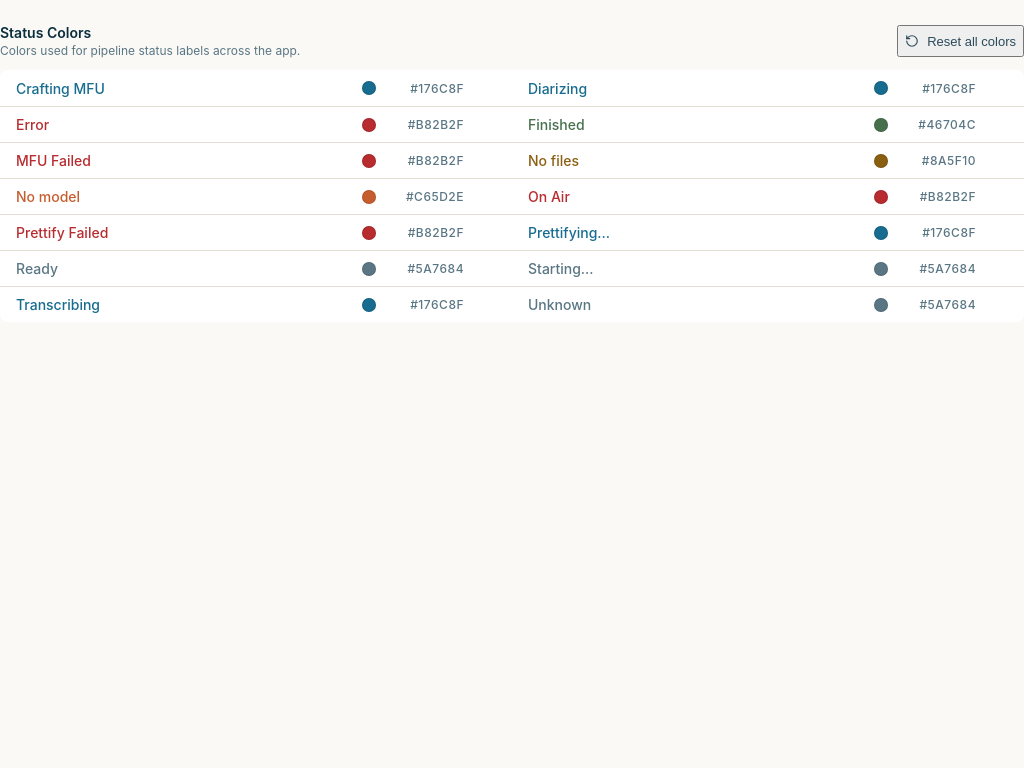
Test: StatusColorsSection — picker popover › keeps the visual color input and hex field synchronized
Click the button "Ready #5A7684" at (37, 268), box x1=16 y1=260 x2=464 y2=277
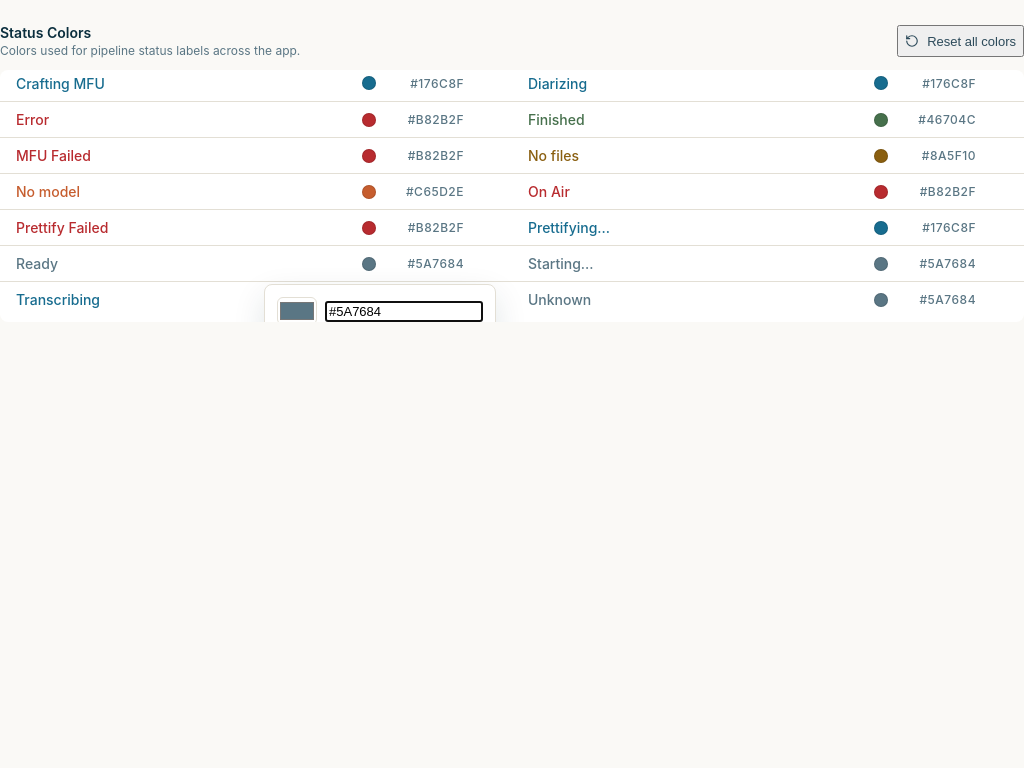
Type "#abcdef" into the colour field named "Visual color picker" at (297, 311), box x1=277 y1=297 x2=317 y2=325
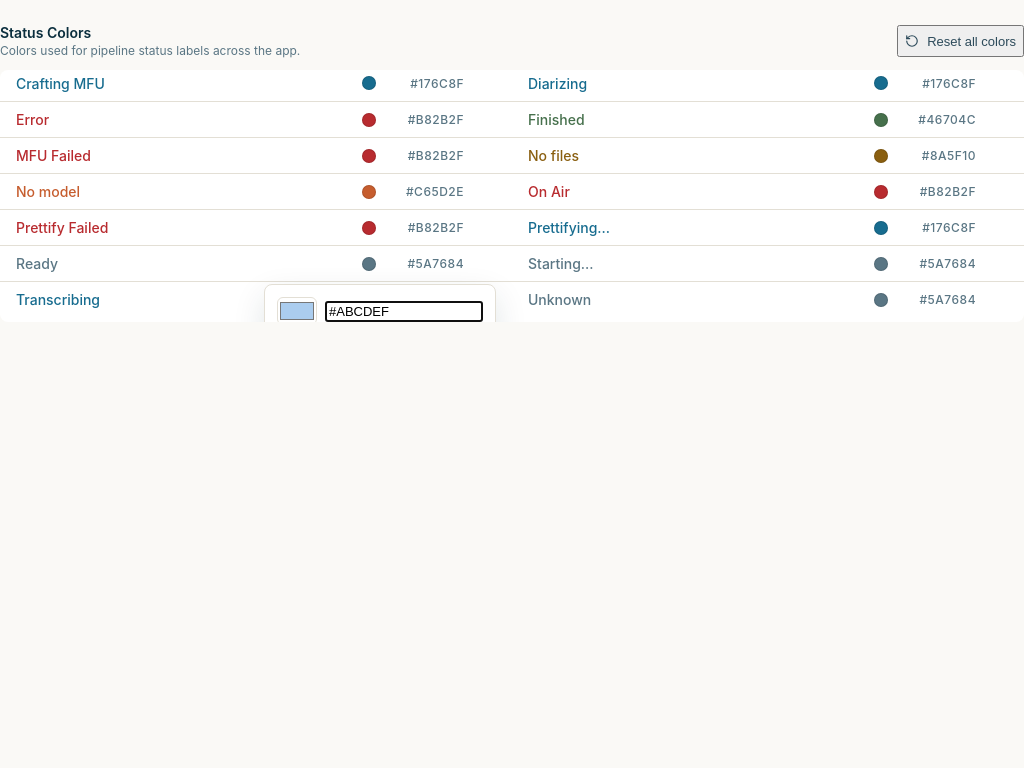
Expected: the field named "Hex color" holds "#ABCDEF", x1=325 y1=300 x2=483 y2=322
